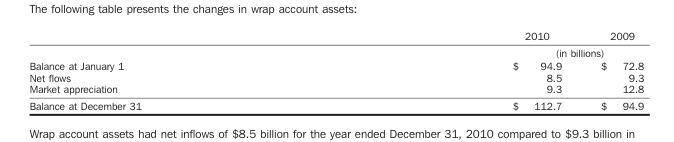table: (28, 29, 643, 111)
table column: (28, 29, 326, 111), (326, 29, 580, 111), (580, 29, 643, 111)
table column header: (28, 29, 643, 58)
table row: (28, 43, 643, 58), (28, 96, 643, 111), (28, 29, 643, 43), (28, 82, 643, 96), (28, 58, 643, 71), (28, 71, 643, 82)
table spanning cell: (326, 43, 643, 58)
